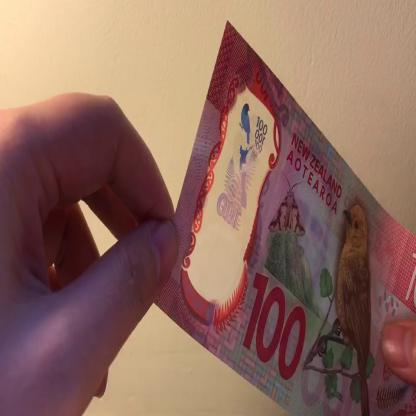100B: (217, 98, 271, 239)
